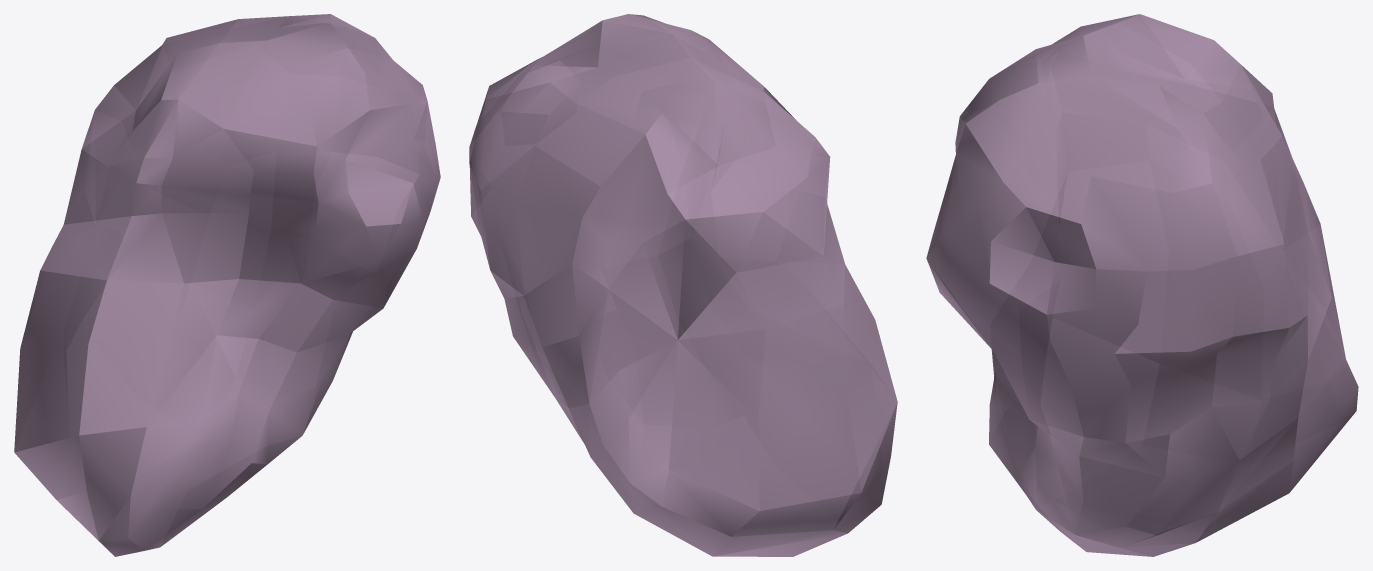
Rendered from Asteroid01b_LOD2.fbx.
The picture shows the model from 3 angles, left to right: view 1: azimuth 30°, elevation 25°; view 2: azimuth 150°, elevation 25°; view 3: azimuth 270°, elevation 25°; orthographic projection. The views are drawn at different scales.
Parts seen in each view (by area): view 1: Asteroid01b_LOD2; view 2: Asteroid01b_LOD2; view 3: Asteroid01b_LOD2.
Boxes of the visible parts, left/top/right/bottom form: Asteroid01b_LOD2: left=14, top=14, right=440, bottom=556; Asteroid01b_LOD2: left=469, top=14, right=897, bottom=556; Asteroid01b_LOD2: left=926, top=14, right=1358, bottom=556.
Size of the model in its own units: 1.78 by 2.08 by 1.41.
